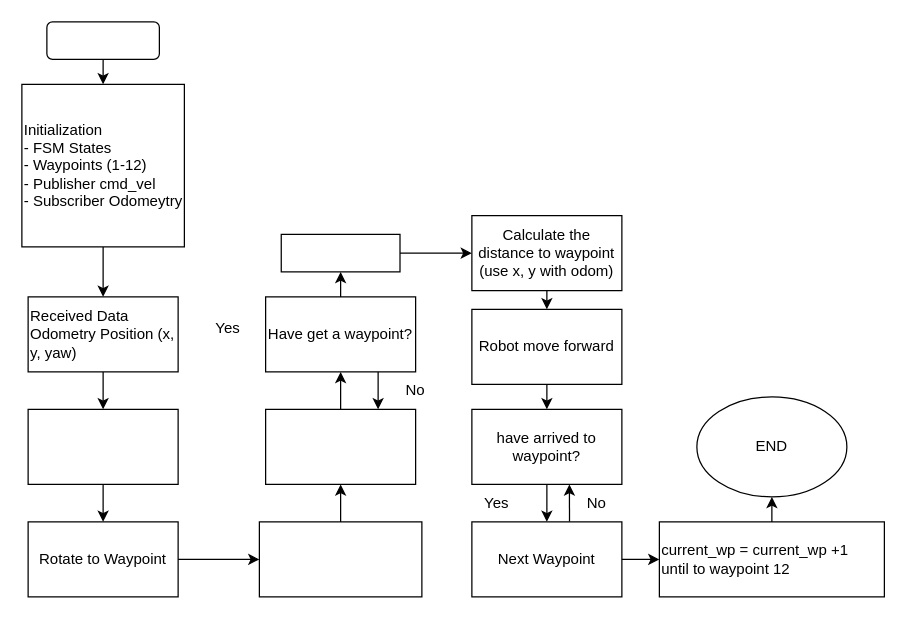
Image size: 906x619. Some labels were removed from this diagram. The shapes that lost their labels are listed below. From the top down, each one's centre as x and y in pixels, then its label:
At [102,40]: "START".
At [340,252]: "Move".
At [102,446]: "FSM LOOP".
At [340,446]: "Robot turn to the waypoint".
At [340,559]: "Calculate the angle to waypoint (use odometry x, y, and yaw)".
